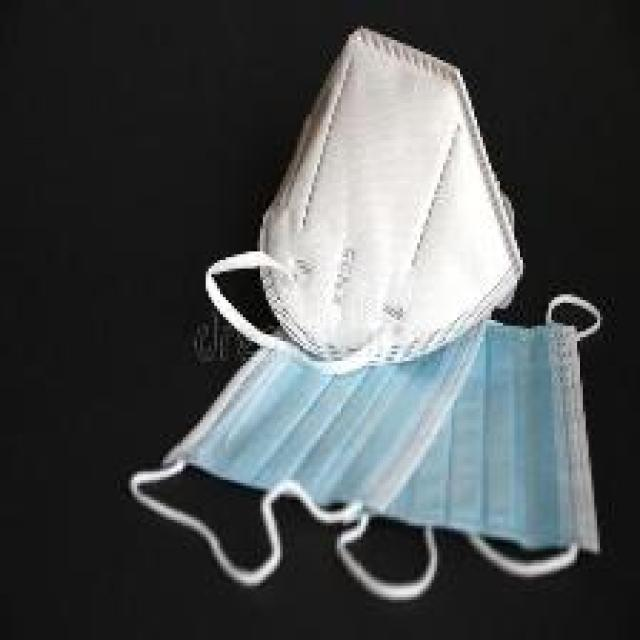Mask: (196, 264, 607, 591), (223, 47, 544, 373)
